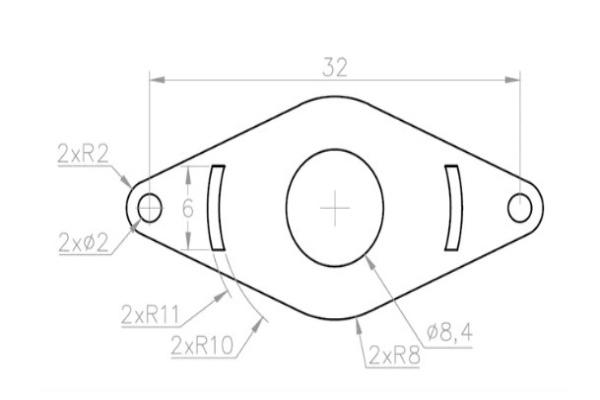dimensions: (46, 132, 114, 172), (49, 224, 113, 255), (116, 295, 180, 326), (169, 330, 236, 358), (368, 338, 425, 366), (427, 318, 476, 347), (312, 49, 355, 81), (177, 197, 199, 221)
